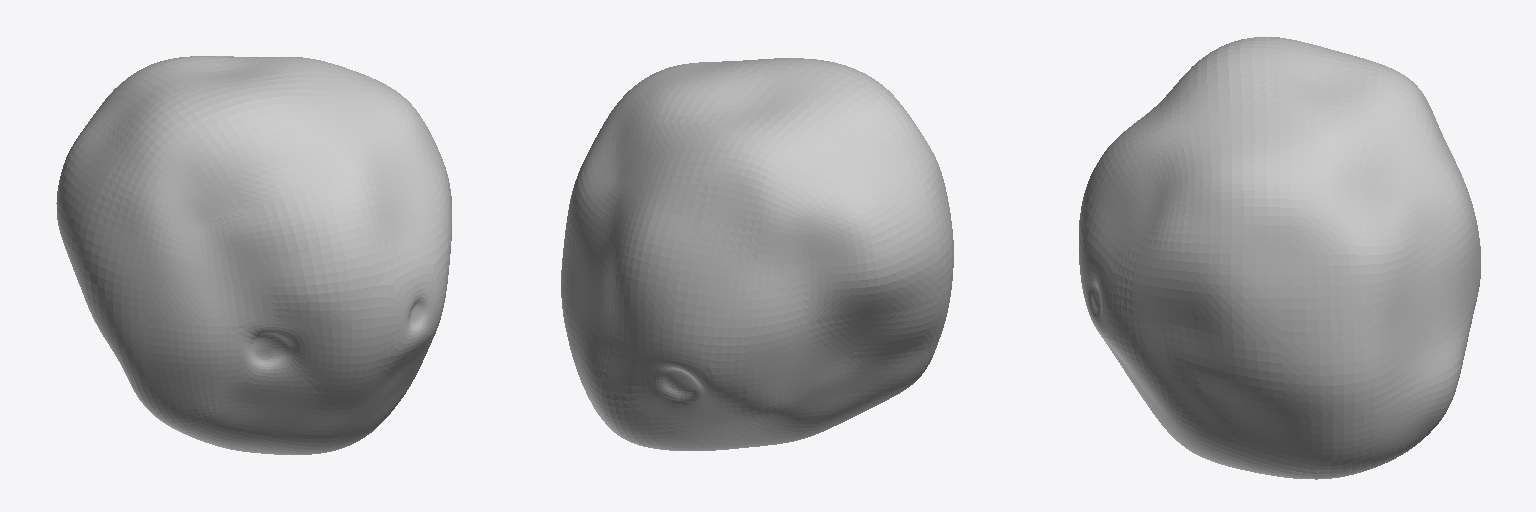
File: asteroid.obj
The picture shows the model from 3 angles: view 1: azimuth 30°, elevation 25°; view 2: azimuth 150°, elevation 25°; view 3: azimuth 270°, elevation 25°; orthographic projection.
Visible parts, largest first — view 1: asteroid; view 2: asteroid; view 3: asteroid.
Boxes of the visible parts, <box> form: asteroid: <box>56,56,451,454</box>; asteroid: <box>561,58,953,450</box>; asteroid: <box>1079,37,1480,479</box>.
Bounding box in the file's own units: 1365 × 1383 × 1377.